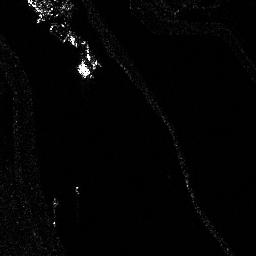ship: (83, 48, 102, 71)
